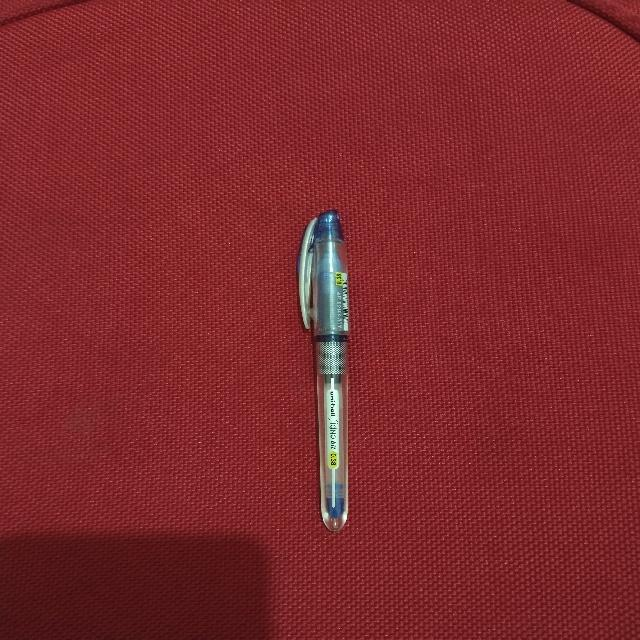pen: (299, 210, 348, 530)
